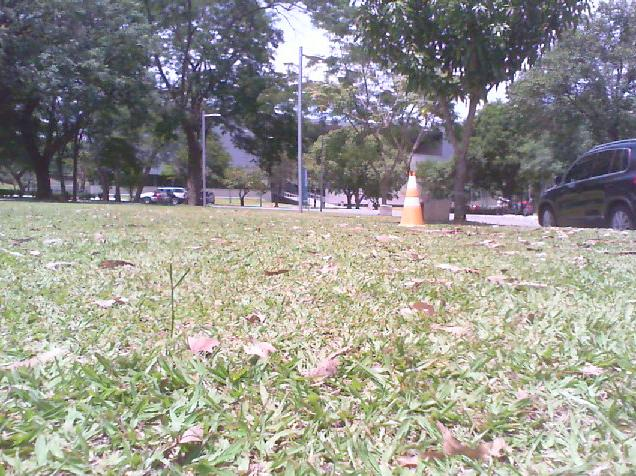0 cone: (397, 171, 425, 228)
